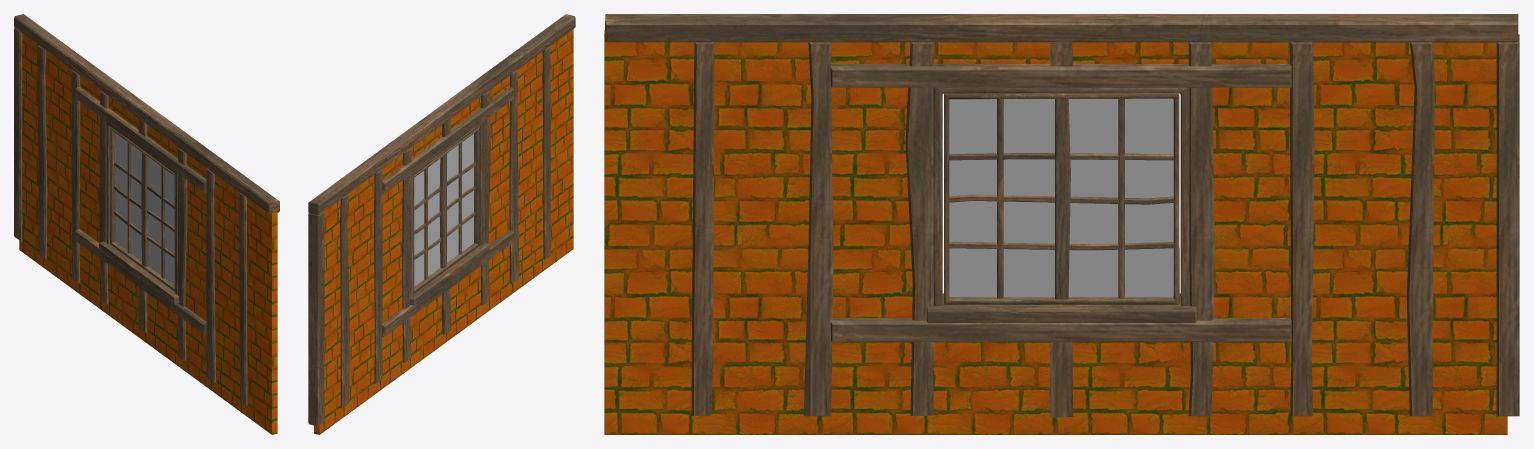
File: SM_wall_14.fbx
3 renders of one model, left to right at view 1: azimuth 30°, elevation 25°; view 2: azimuth 150°, elevation 25°; view 3: azimuth 270°, elevation 25°, orthographic. The views are drawn at different scales.
Parts seen in each view (by area): view 1: SM_wall_14_LOD0; view 2: SM_wall_14_LOD0; view 3: SM_wall_14_LOD0.
Boxes of the visible parts, left/top/right/bottom form: SM_wall_14_LOD0: left=14, top=14, right=279, bottom=434; SM_wall_14_LOD0: left=308, top=14, right=575, bottom=434; SM_wall_14_LOD0: left=604, top=14, right=1519, bottom=434.
Bounding box in the file's own units: 37.54 × 800 × 400.
